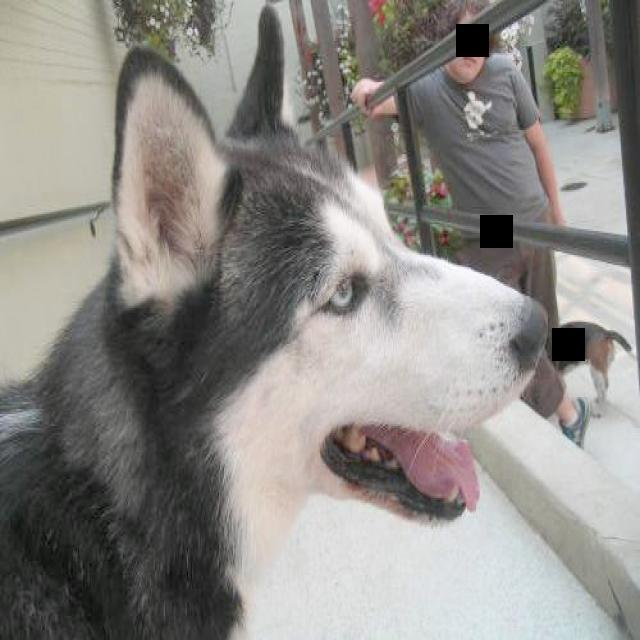adult_dog: (0, 5, 547, 632), (549, 320, 632, 419)
non-dog: (348, 11, 592, 452)
